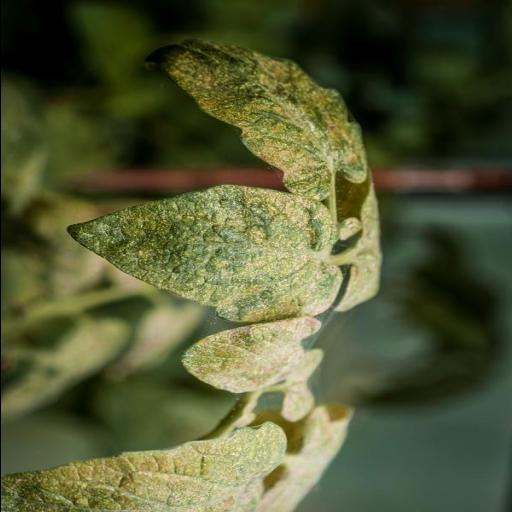disease_tomato: (64, 184, 342, 324), (136, 40, 366, 202), (171, 312, 323, 396)
